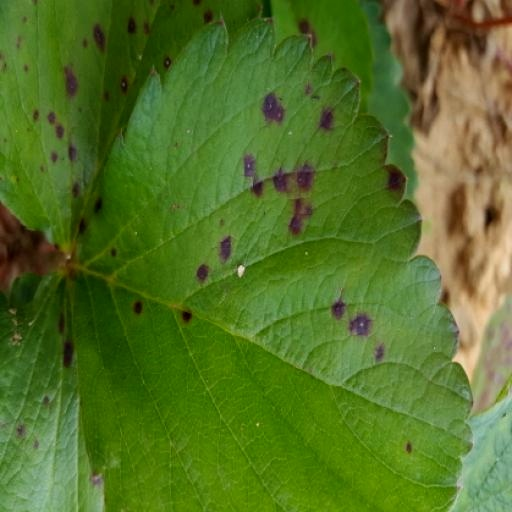Leaf Spot: (71, 0, 475, 499), (0, 252, 268, 511), (269, 317, 421, 511)
